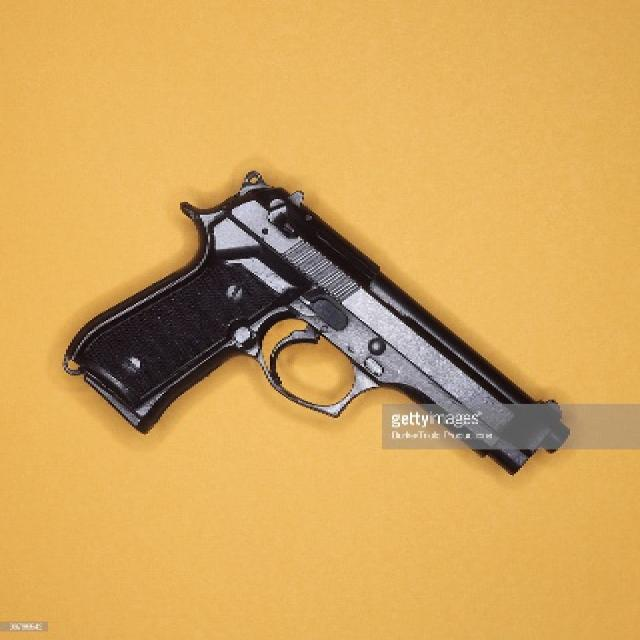handgun: (56, 168, 572, 475)
